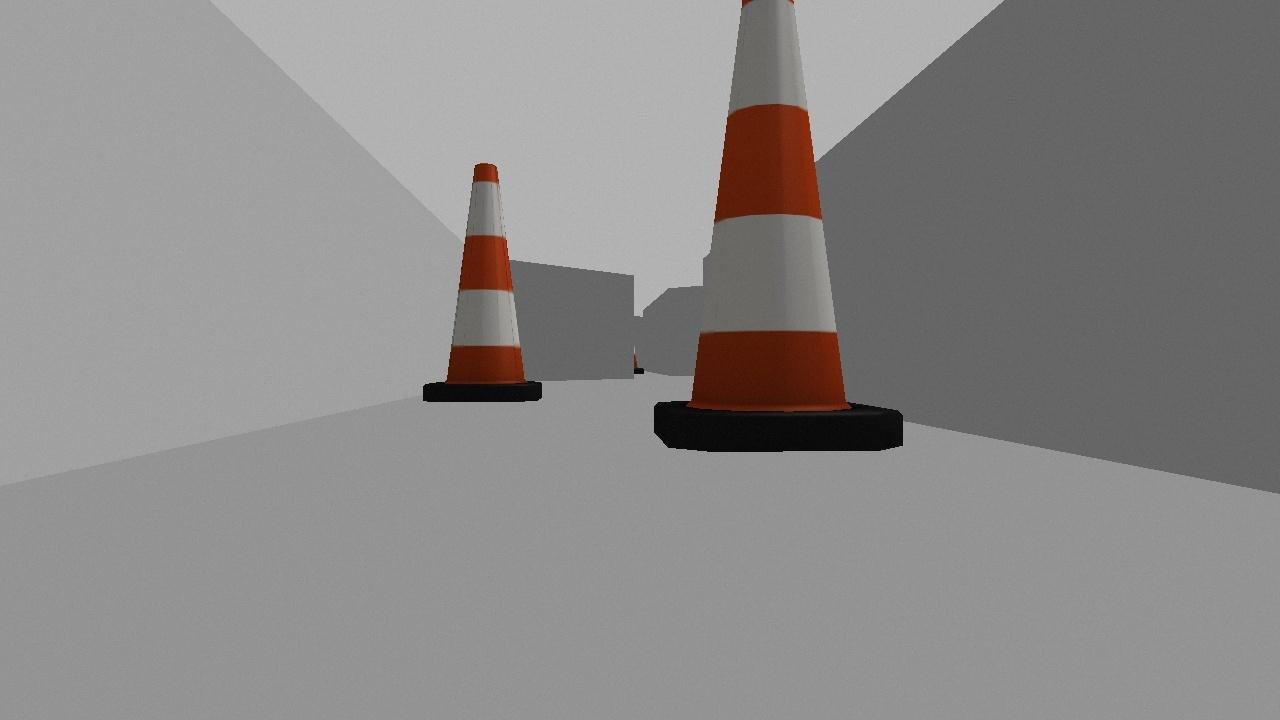cone_barrel: (652, 0, 901, 452), (420, 161, 540, 402)
